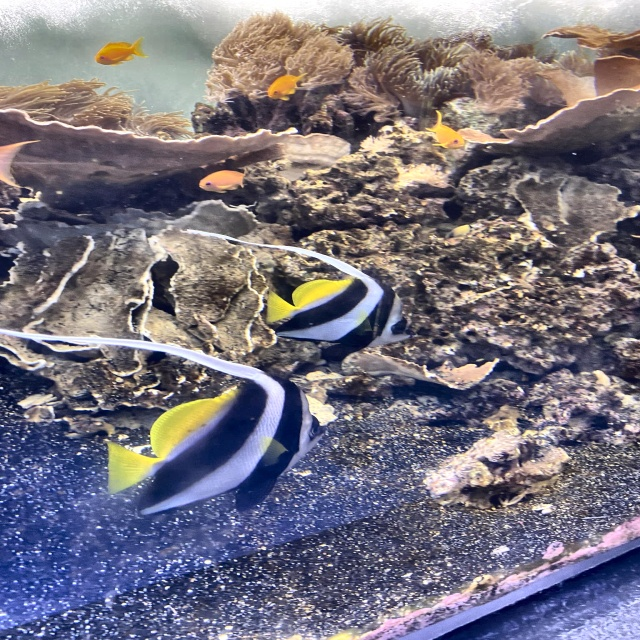fish: (59, 335, 320, 514), (255, 239, 420, 356), (194, 167, 247, 196), (88, 41, 145, 65), (429, 119, 468, 150), (258, 74, 299, 102)
